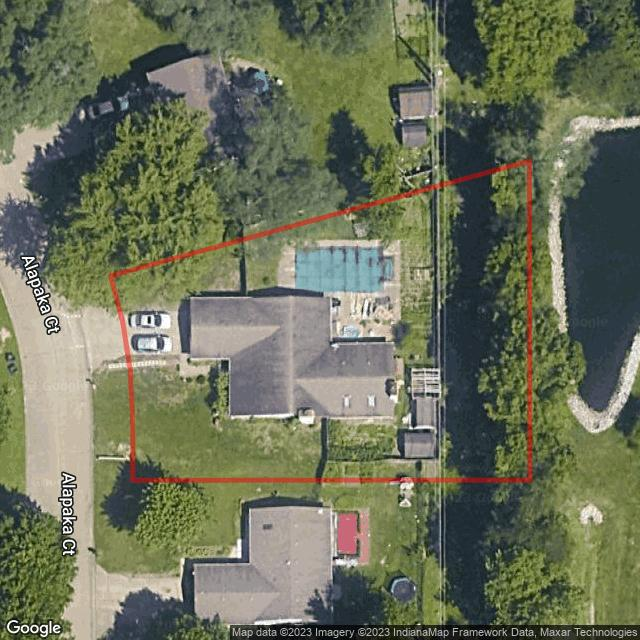Driveway: (124, 301, 190, 362)
Extra Driveway: (80, 306, 126, 373)
Extra Lawn: (93, 368, 131, 485), (74, 275, 118, 316)
Extra Sidewalk: (92, 362, 126, 375)
House: (180, 290, 399, 428)
Other: (280, 240, 402, 342), (399, 369, 441, 459)
Sidewalk: (132, 360, 216, 376)
